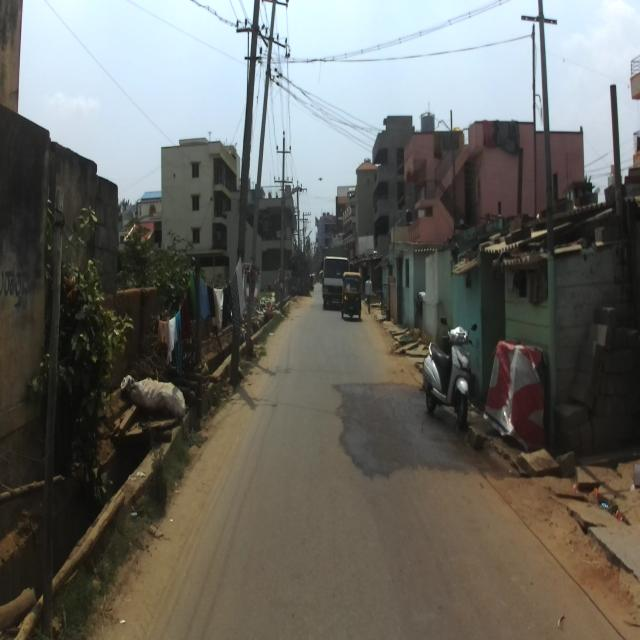electric pole ahead at: (227, 0, 277, 390)
motorcycle ahead at: (421, 315, 475, 423)
